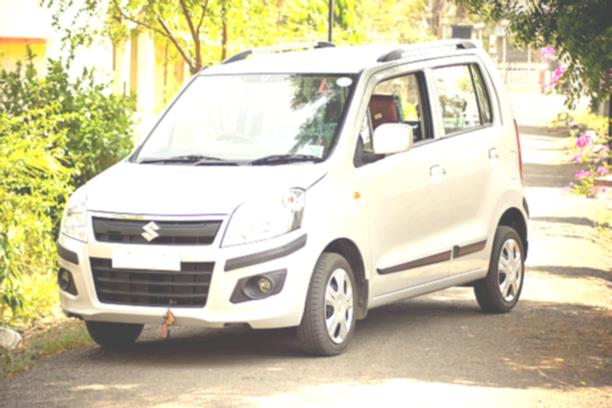suzuki: (139, 218, 164, 246)
